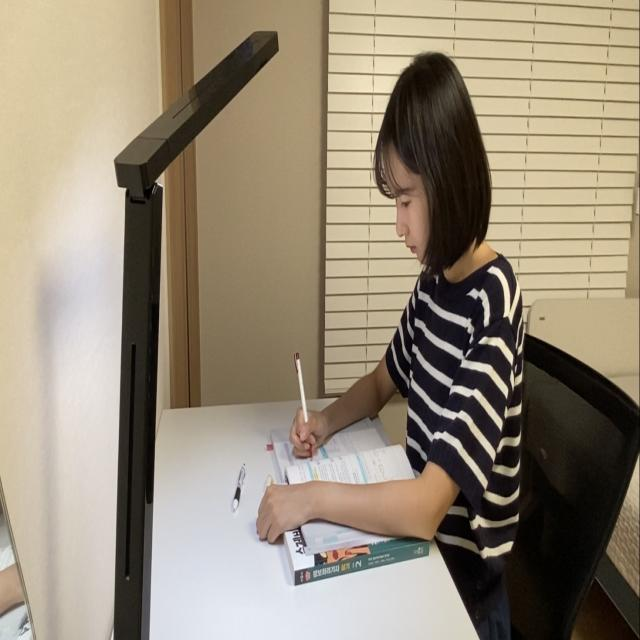studying-person: (249, 37, 535, 640)
